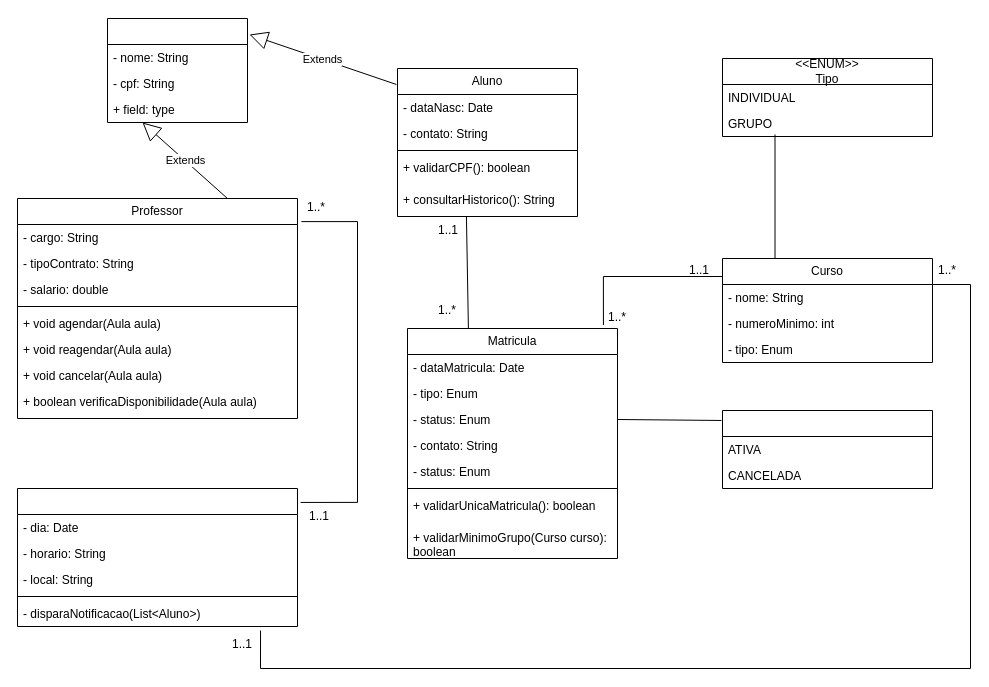
Some shapes in this 989 by 687 pixel diagram are drawn without their labels. The box of each missing label's shape, as (x1, y1, x2, y2) in pixels:
<<ENUM>> Status: (722, 410, 932, 488)
Aula: (16, 488, 298, 626)
Pessoa: (106, 18, 248, 122)
